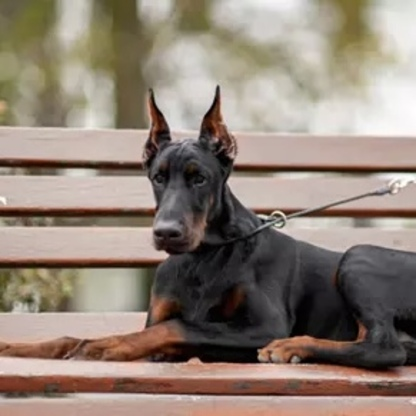doberman: (135, 82, 416, 368)
